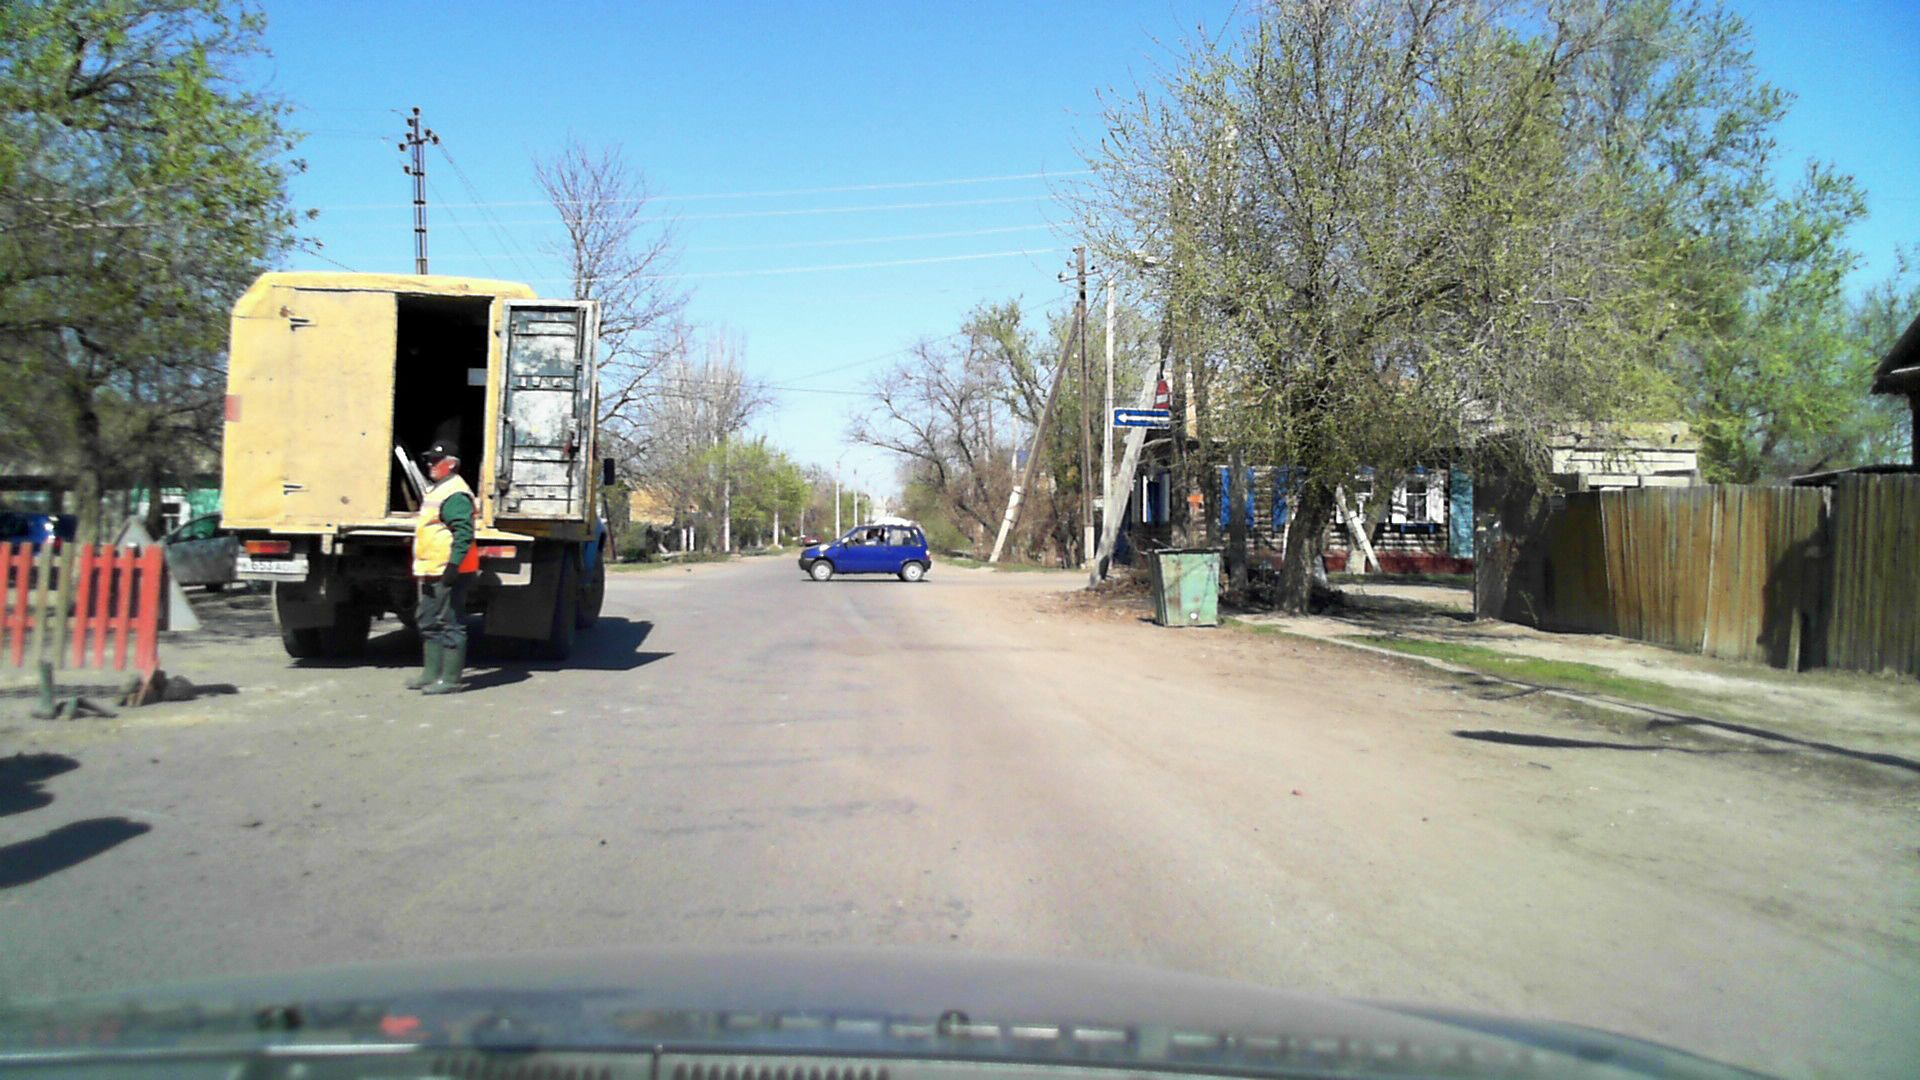One-Way Traffic: (1112, 407, 1170, 427)
